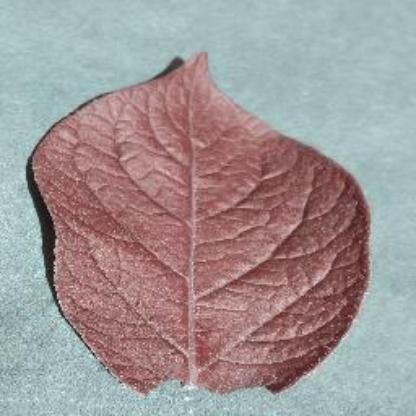Healthy-plant: (26, 50, 374, 398)
